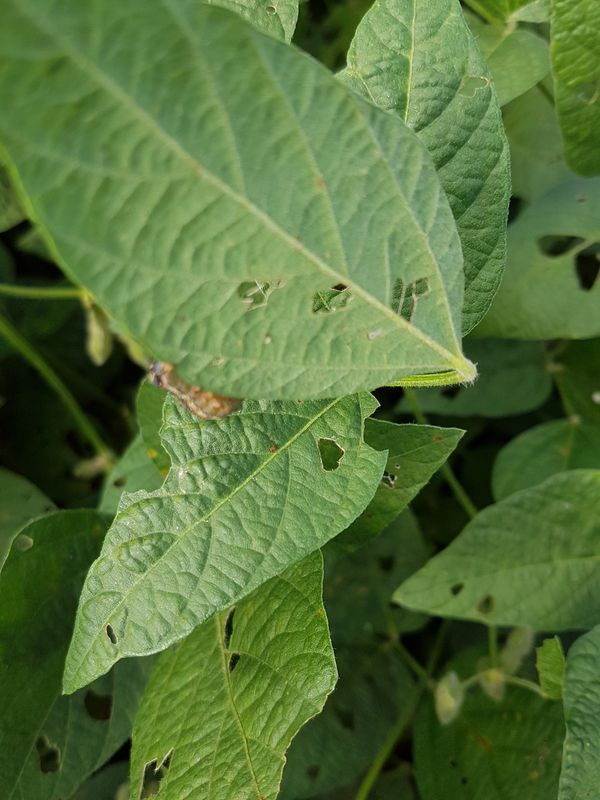Spodoptera_albula: (136, 352, 261, 433)
